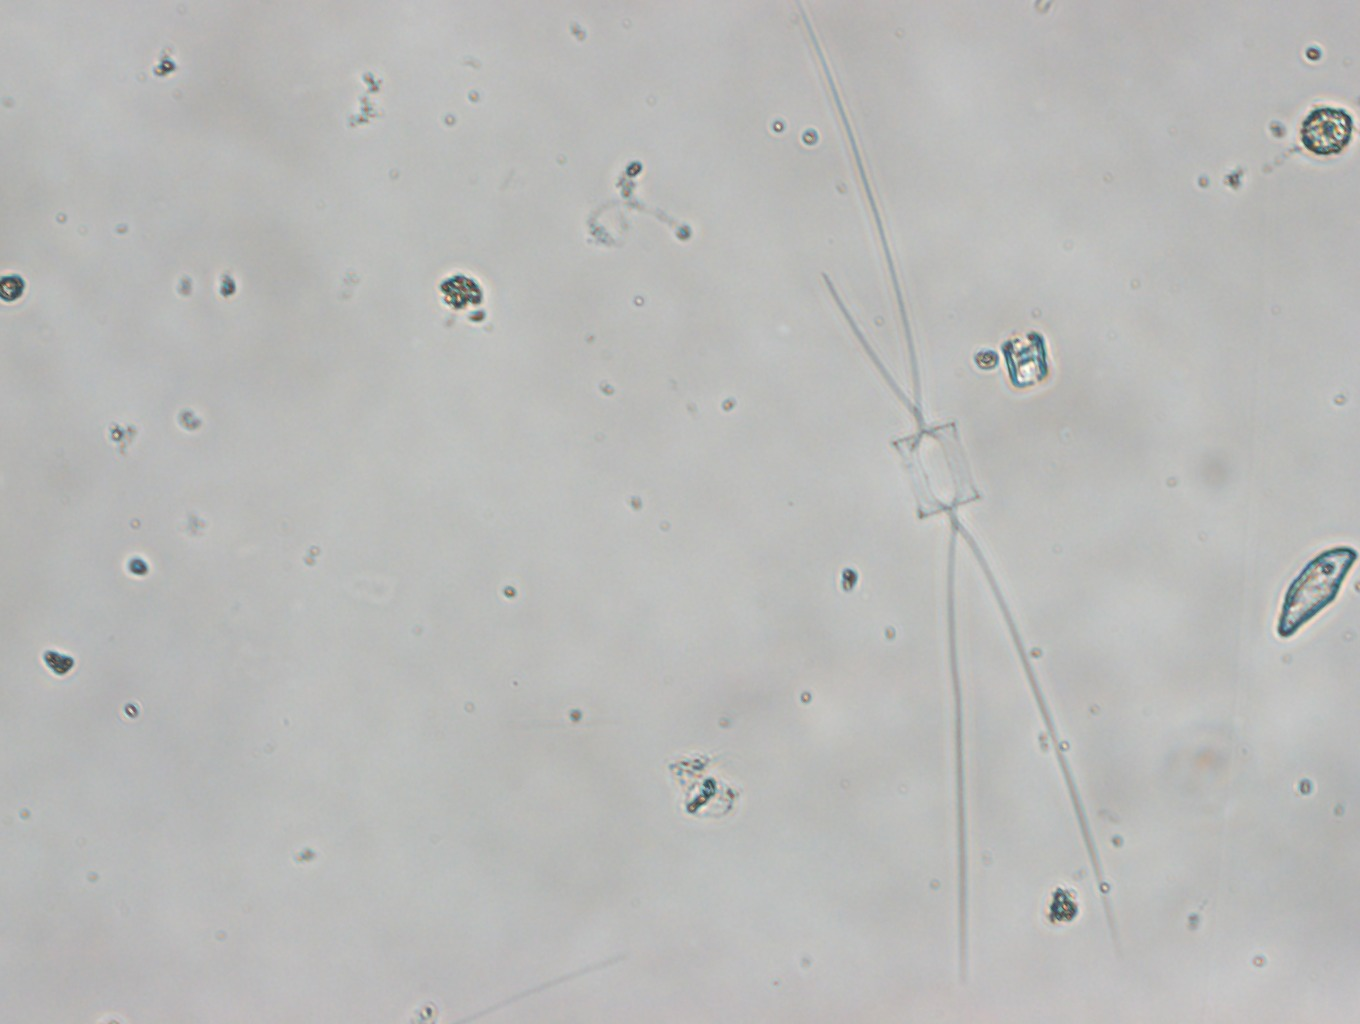chaetoceros: (797, 25, 1130, 949)
